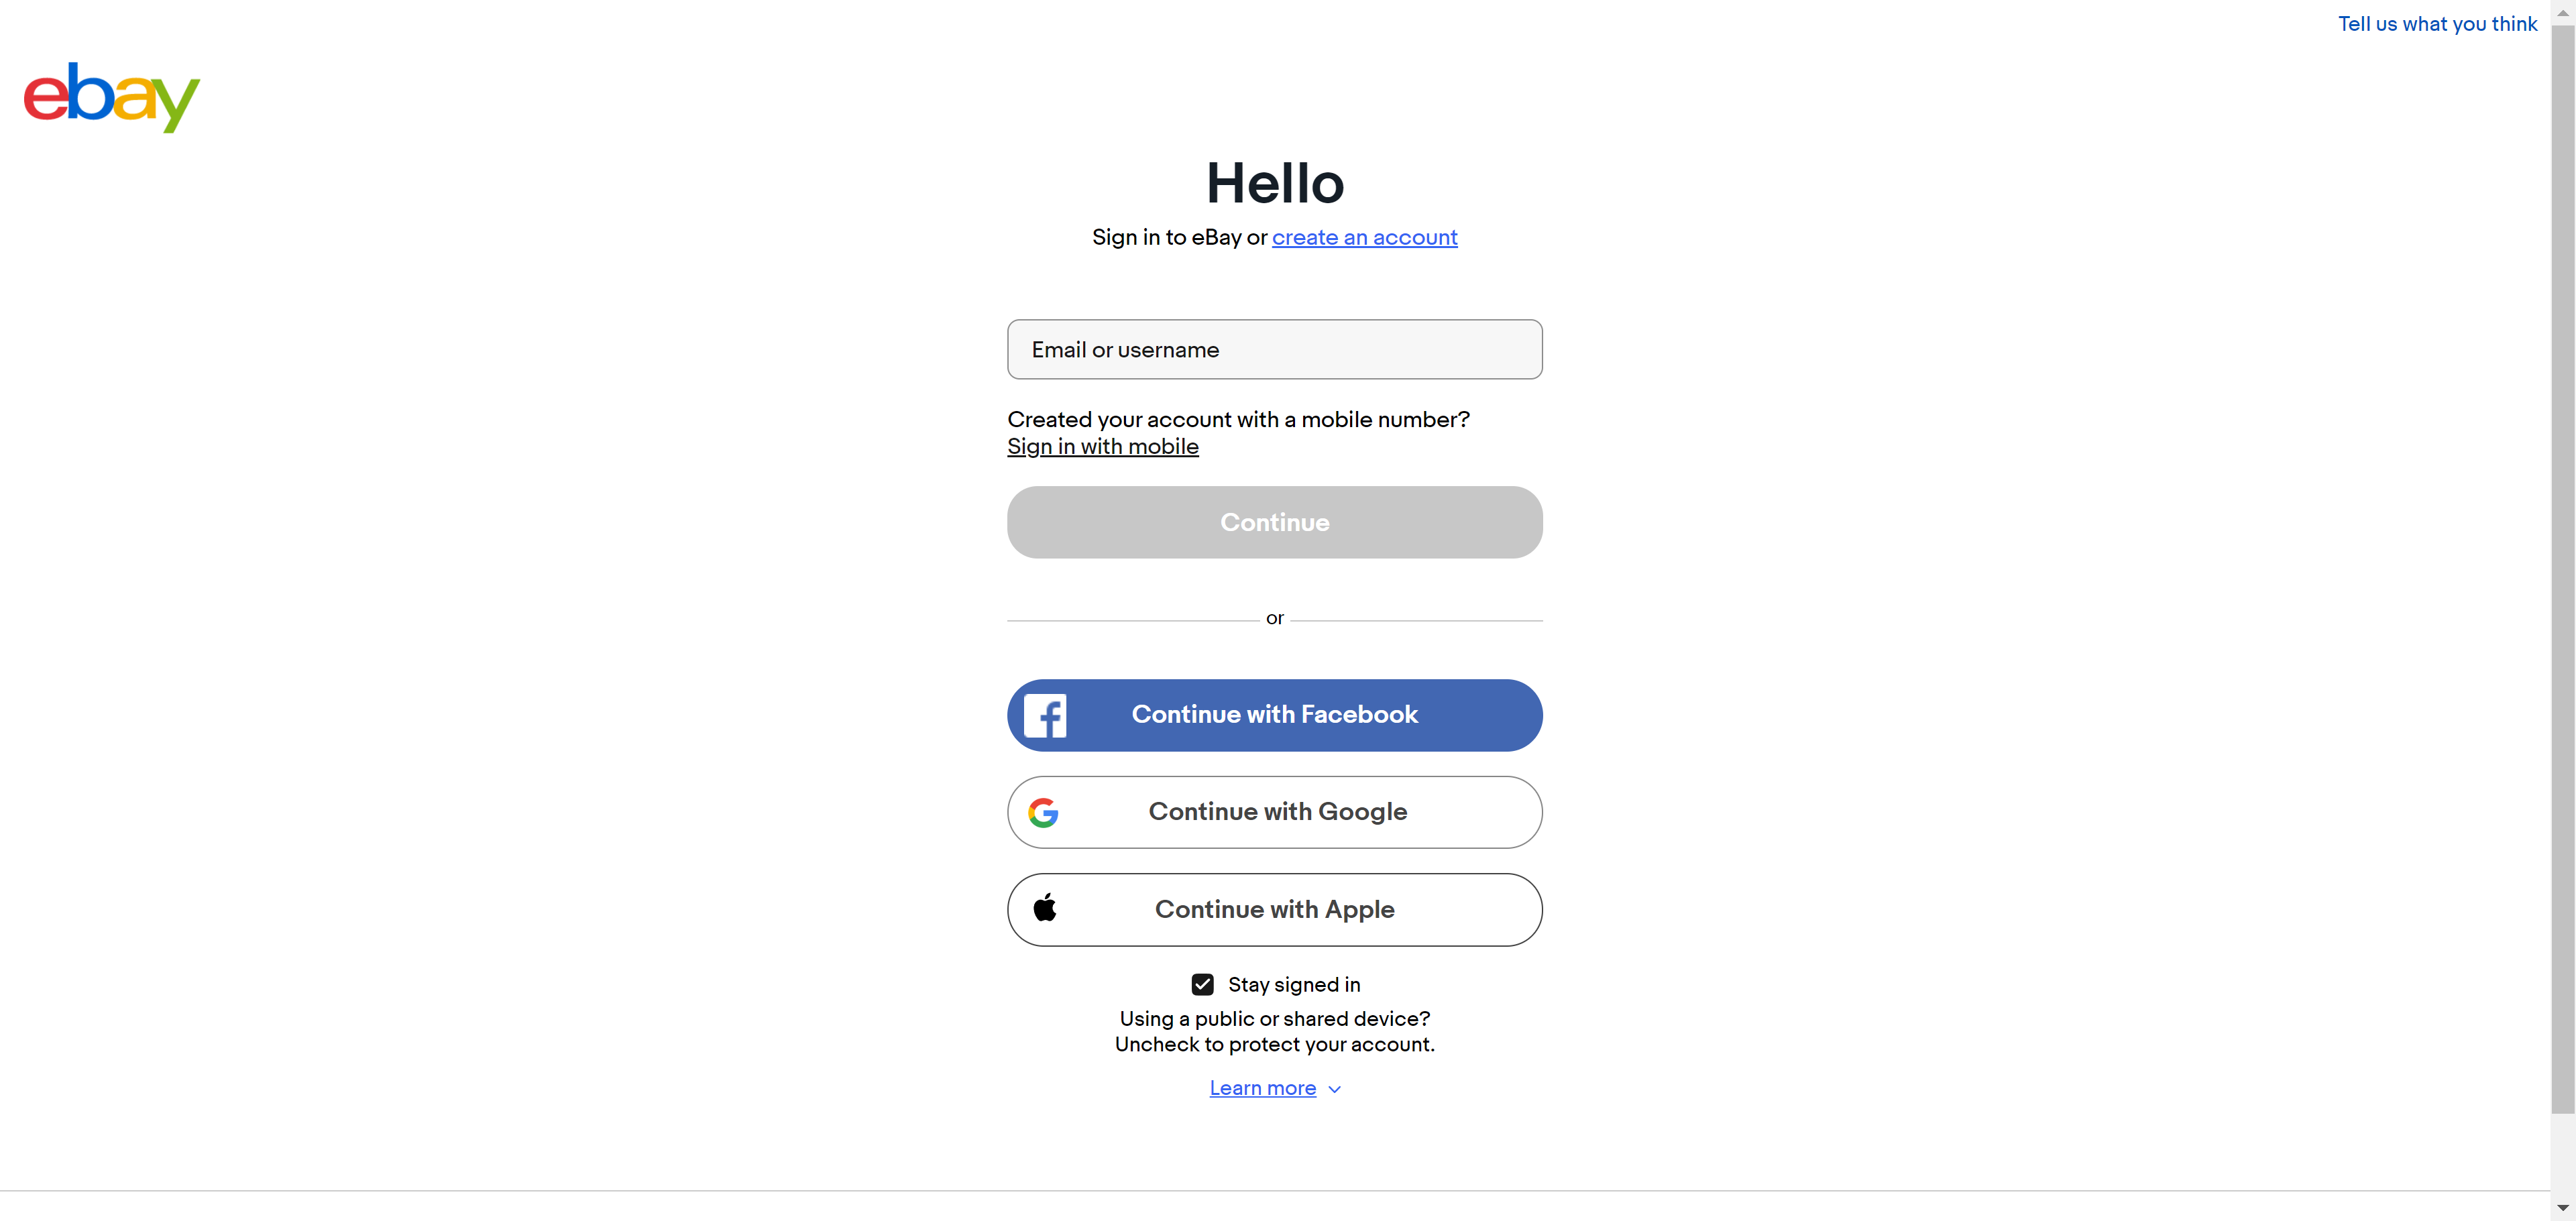login_button: (1007, 486, 1543, 557)
login_form: (1000, 314, 1549, 565)
